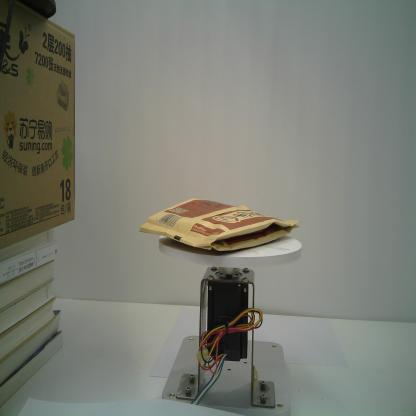Dried Food: (139, 197, 302, 251)
